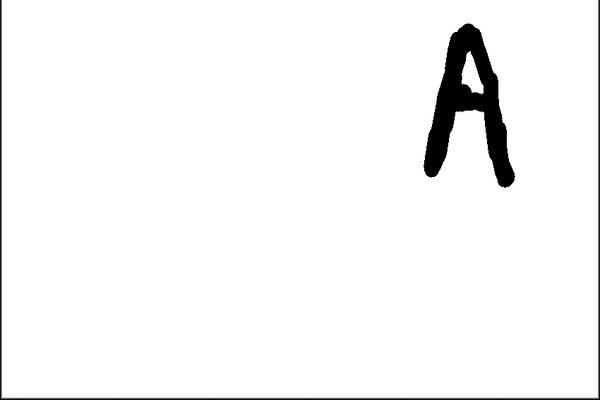A: (408, 15, 523, 200)
